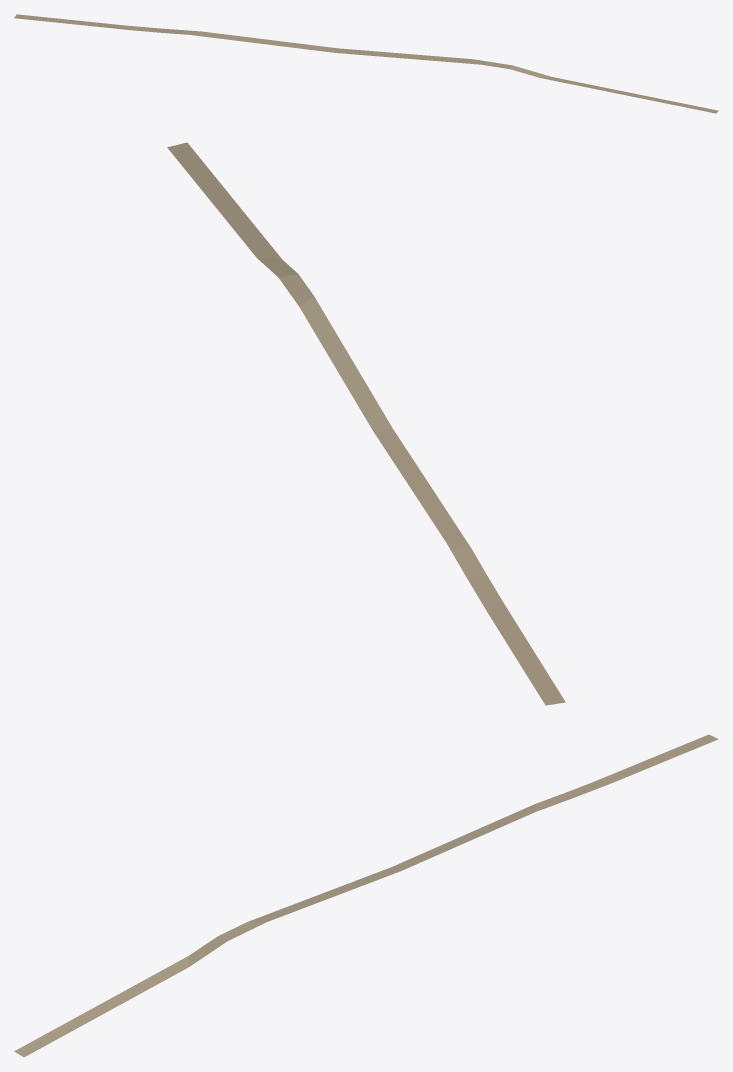
The model's file is farm_9_18_track.glb.
The picture shows the model from 3 angles, top to bottom: view 1: azimuth 30°, elevation 25°; view 2: azimuth 150°, elevation 25°; view 3: azimuth 270°, elevation 25°; orthographic projection. The views are drawn at different scales.
Visible parts, largest first — view 1: geometry_0; view 2: geometry_0; view 3: geometry_0.
Part boxes in pixels (x1,y1,x2,y2): geometry_0: [14, 14, 718, 113]; geometry_0: [167, 142, 565, 705]; geometry_0: [14, 734, 718, 1057].
Size of the model in its own units: 163 by 8.22 by 163.
